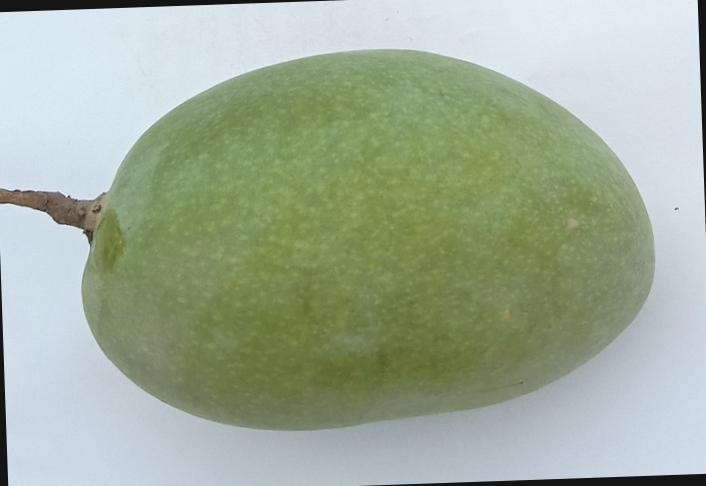Mango Unripe: (0, 26, 706, 458)
